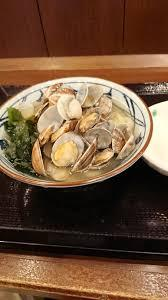asari: (1, 65, 160, 202)
